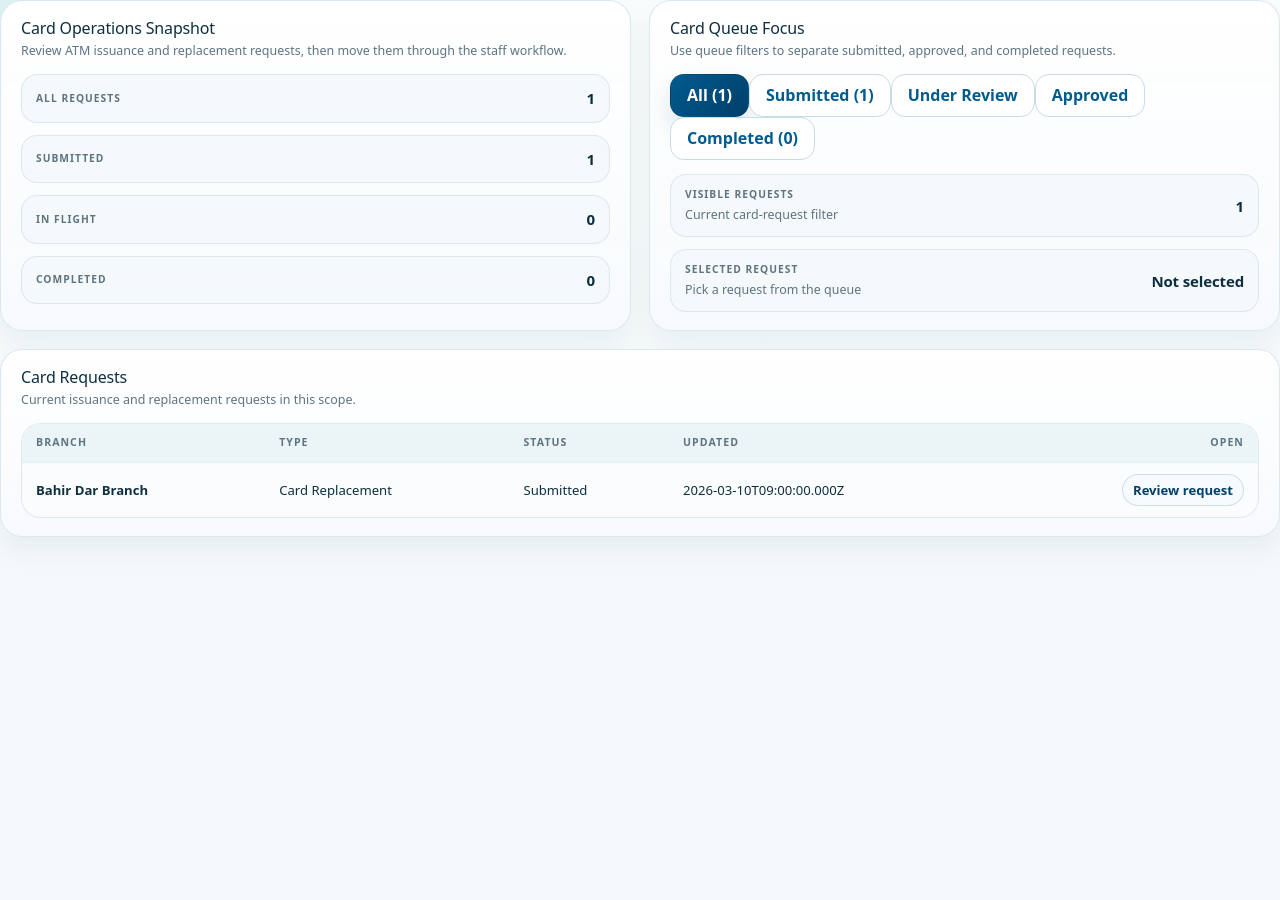
CardOperationsPage › loads card request detail and updates the workflow status
Expected: the heading "Card Operations Snapshot" is shown, [21,17,215,39]
Expected: the text "Card Replacement" is shown, [265,463,510,517]
Click the button "Review request" at coordinates (1183, 490), box [1122,474,1244,506]
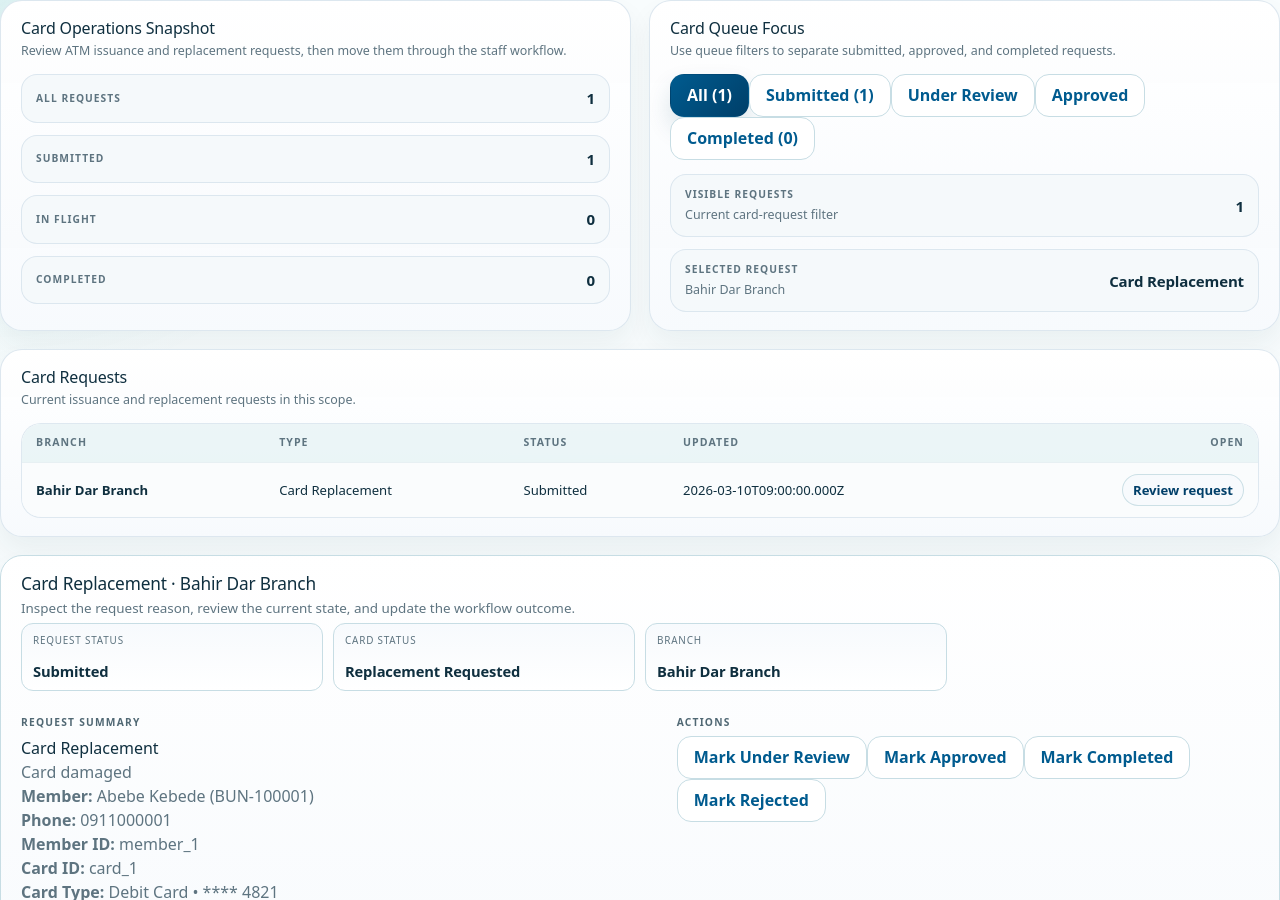
Now the text "Abebe Kebede (BUN-100001)" is shown, box [21,785,314,807]
Click the button "Mark Completed" at coordinates (1107, 757), box [1024,736,1190,779]
(page scrolled)
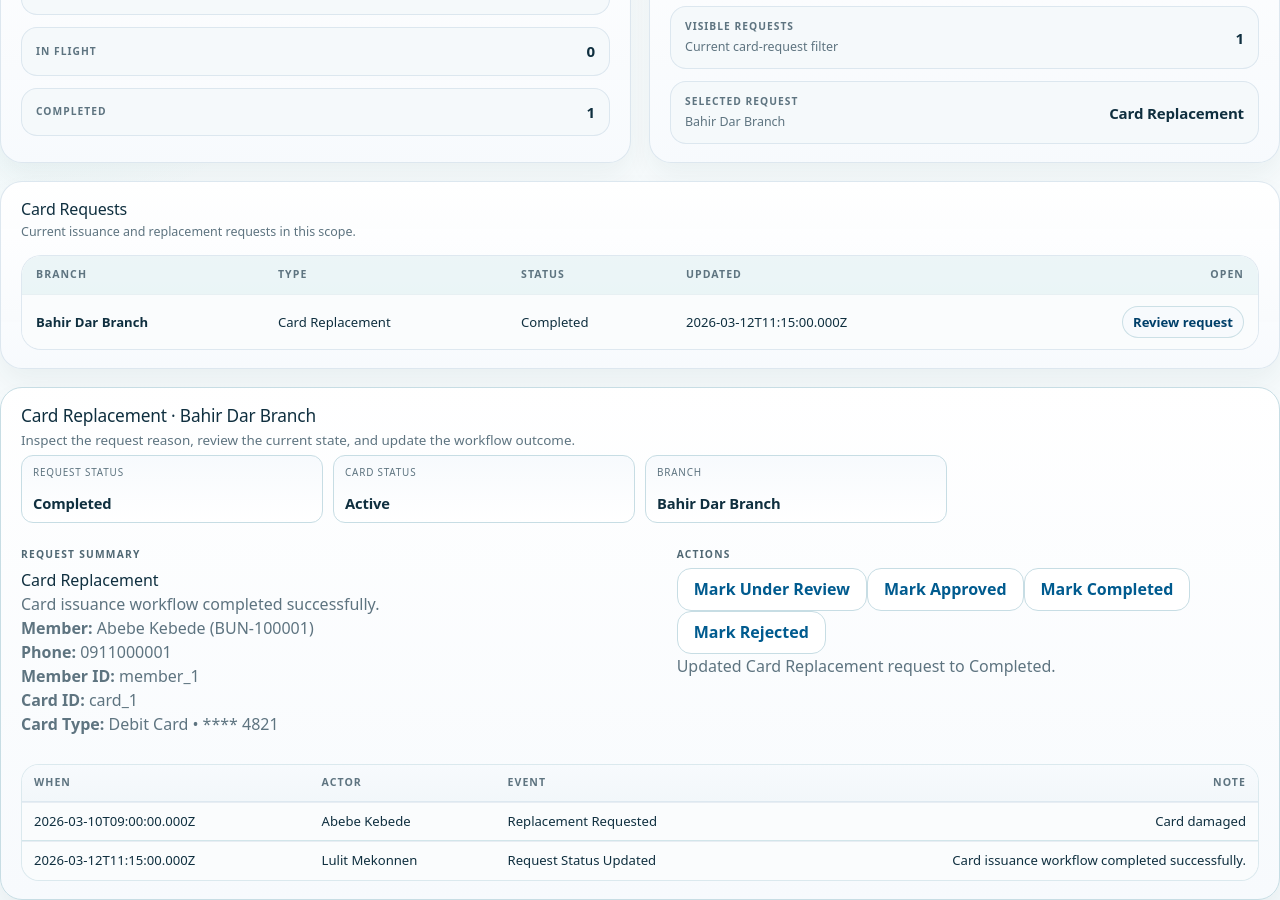
Now the text "Updated Card Replacement request to Completed." is shown, box [677,655,1056,677]
Now the text "Active" is shown, box [345,493,390,513]
Now the text "Request Status Updated" is shown, box [496,841,765,880]
